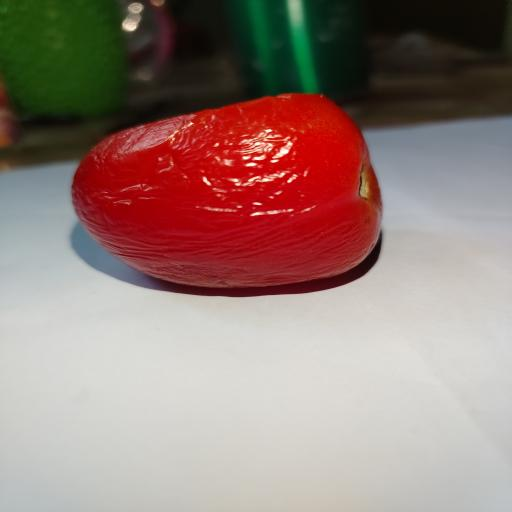spoiled: (73, 94, 381, 287)
